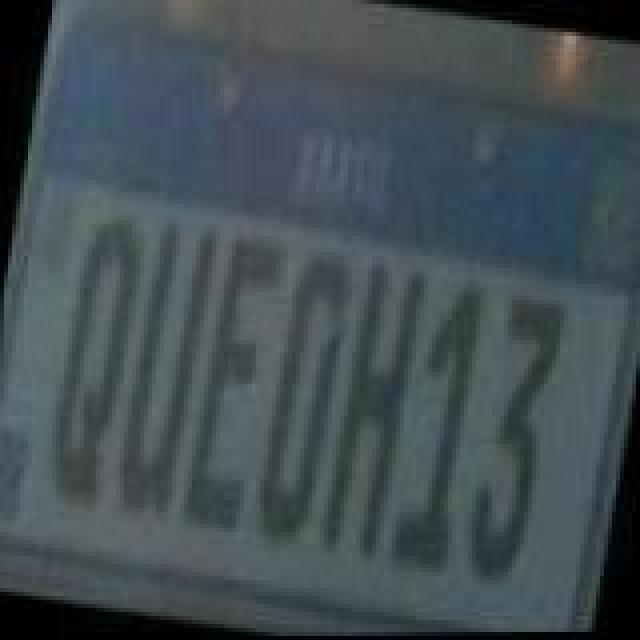1: (378, 268, 494, 584)
3: (454, 288, 570, 592)
D: (244, 240, 360, 552)
E: (172, 218, 288, 538)
H: (314, 250, 430, 562)
Q: (36, 204, 152, 512)
U: (104, 208, 220, 528)
